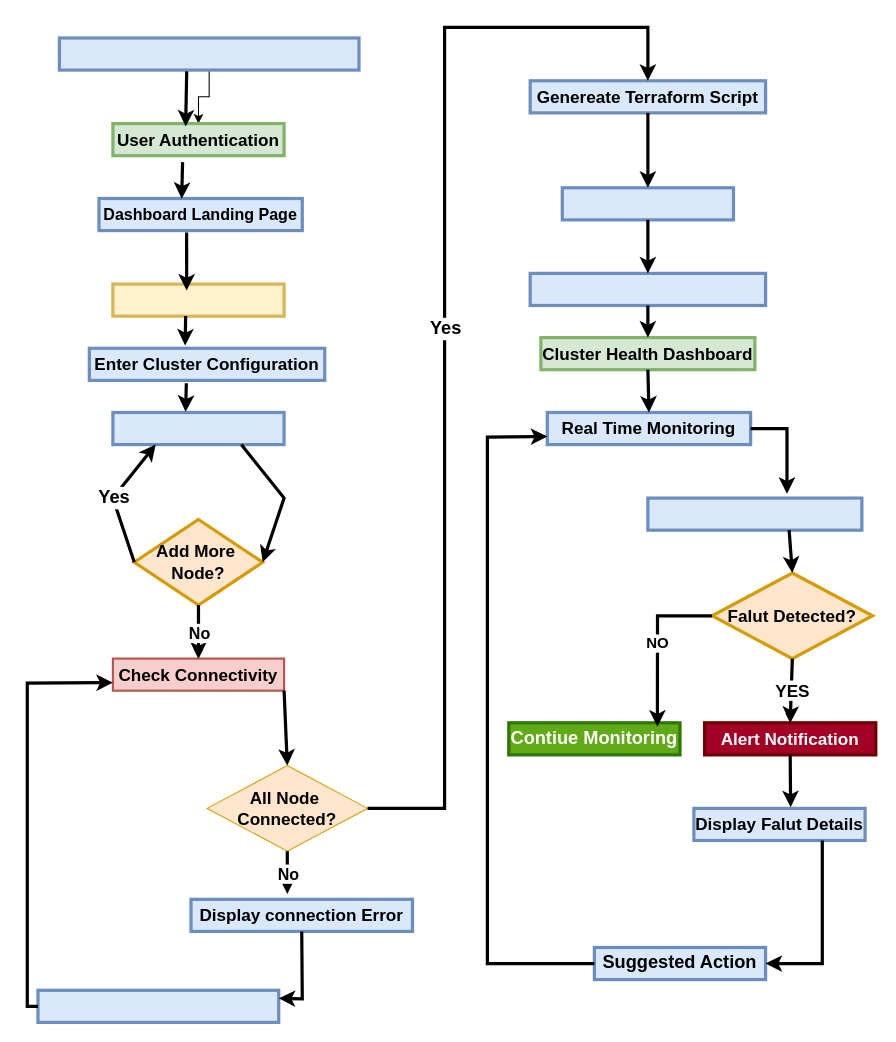
This 896x1042 diagram has some shape labels left out. Here are the shapes that lost their labels. From the top down, the centre of each, then its label:
[208,53]: User Access Web Intercace
[647,203]: Deploy K3s Cluster
[198,299]: Create New Cluster
[647,289]: Install Monitoring Toos
[198,428]: Add Node Details
[754,513]: ML Based Fault Detection
[158,1005]: Review/ Edit Node Details
